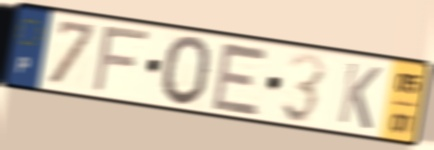3: (279, 51, 333, 126)
7: (47, 18, 99, 89)
E: (208, 39, 272, 120)
F: (88, 24, 154, 95)
K: (334, 59, 384, 133)
O: (159, 33, 215, 109)
